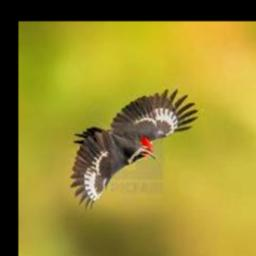Woodpecker: (69, 88, 198, 209)
